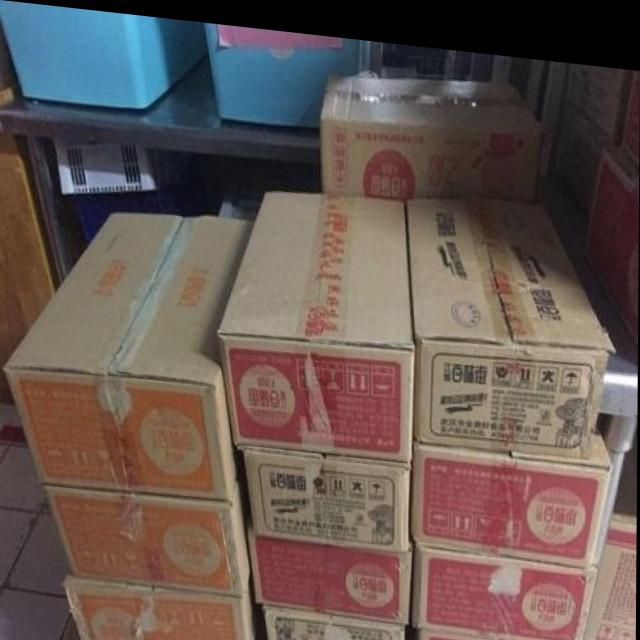box: (5, 206, 257, 496), (403, 185, 616, 442), (218, 185, 415, 455), (409, 403, 615, 560), (320, 67, 543, 189), (43, 463, 252, 592), (410, 532, 595, 638), (242, 439, 411, 542), (250, 526, 415, 613), (64, 571, 258, 640), (584, 427, 636, 640), (587, 125, 638, 328), (548, 88, 618, 199), (263, 598, 406, 640), (565, 55, 633, 124), (419, 616, 584, 640), (619, 56, 639, 154)
